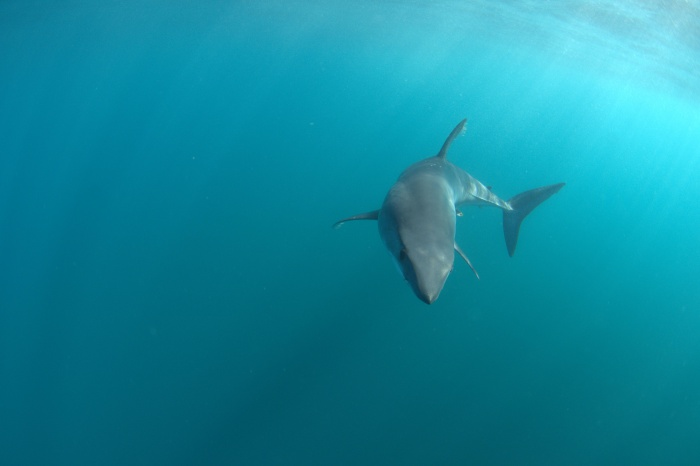Mako: (321, 115, 573, 319)
